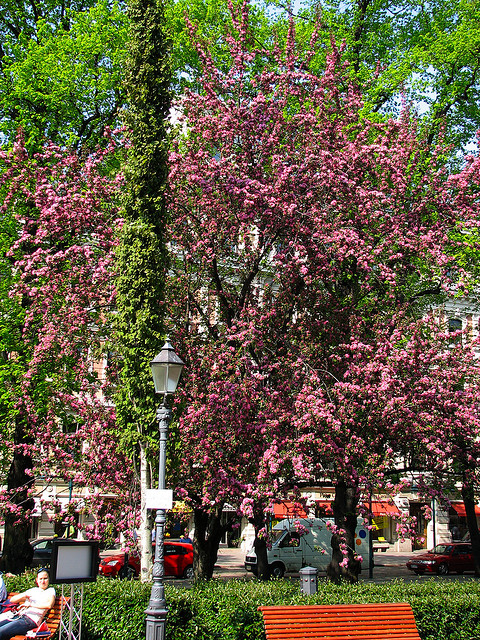Person: (16, 569, 63, 632)
Van: (244, 518, 361, 573)
